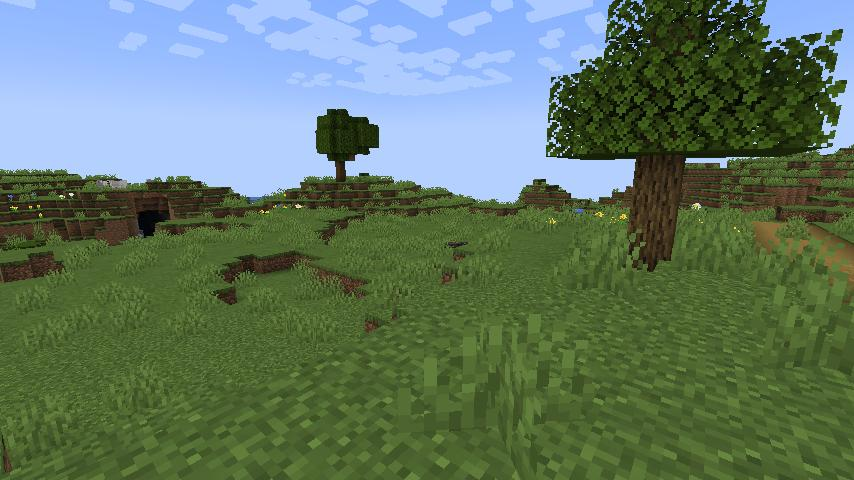sheep: (96, 180, 108, 190)
